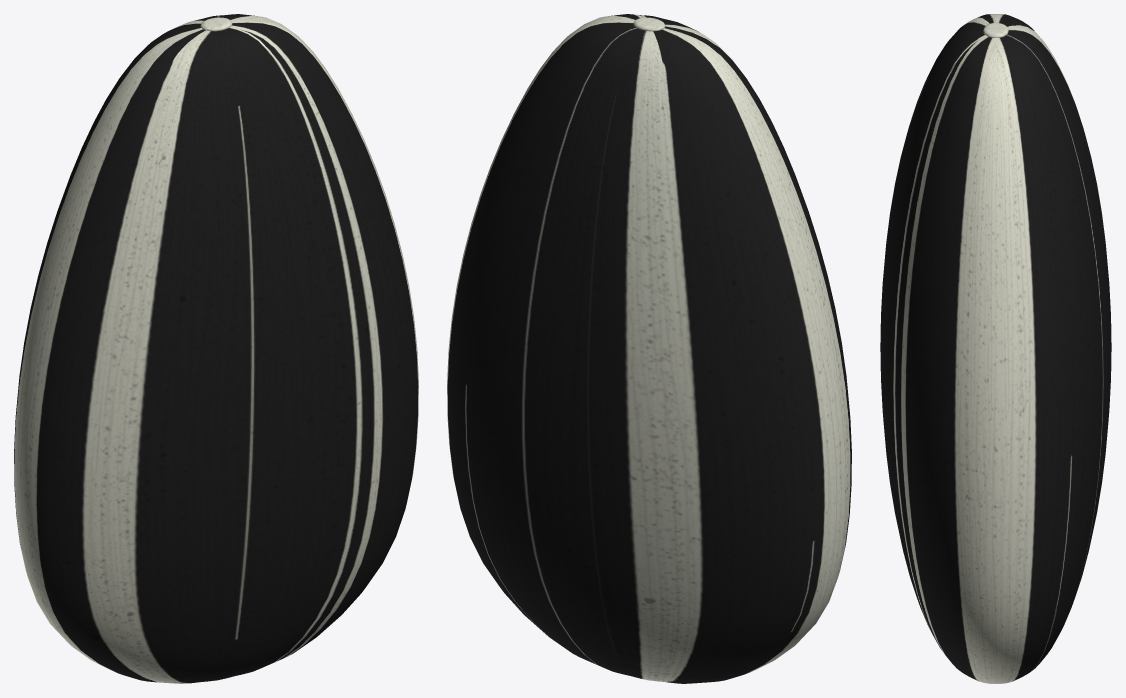
The model's file is seed.glb.
3 renders of one model, left to right at view 1: azimuth 30°, elevation 25°; view 2: azimuth 150°, elevation 25°; view 3: azimuth 270°, elevation 25°, orthographic. The views are drawn at different scales.
Visible parts, largest first — view 1: Object_2; view 2: Object_2; view 3: Object_2.
Part boxes in pixels (x1=…): Object_2: x1=14, y1=14, x2=418, y2=683; Object_2: x1=447, y1=14, x2=851, y2=683; Object_2: x1=880, y1=14, x2=1111, y2=683.
Bounding box in the file's own units: 1.82 × 2.9 × 0.965.
Materials: 1 (1 with a texture image).
